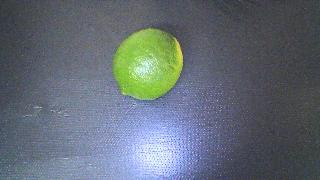EXPORTACION: (113, 28, 183, 100)
